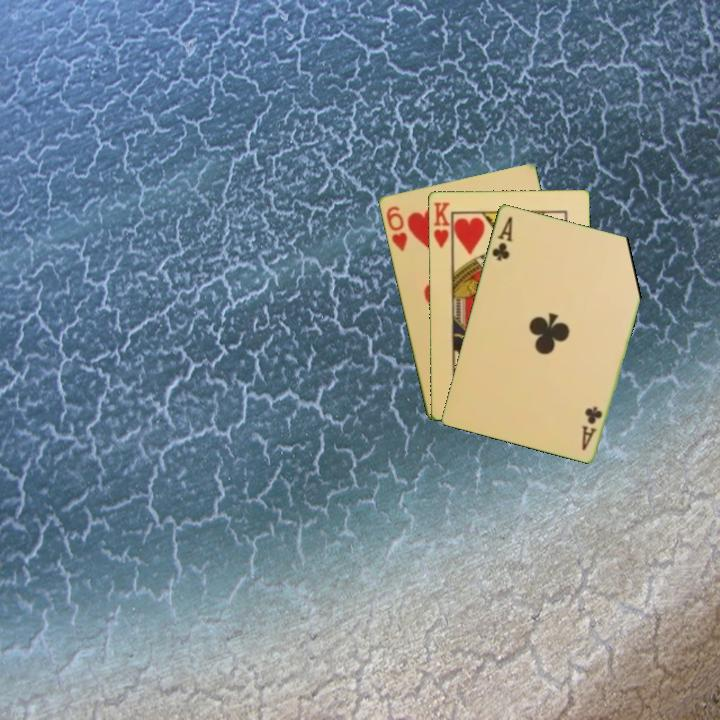6h: (382, 202, 410, 254)
Ac: (488, 212, 515, 264), (578, 402, 605, 453)
Kh: (430, 198, 454, 253)
